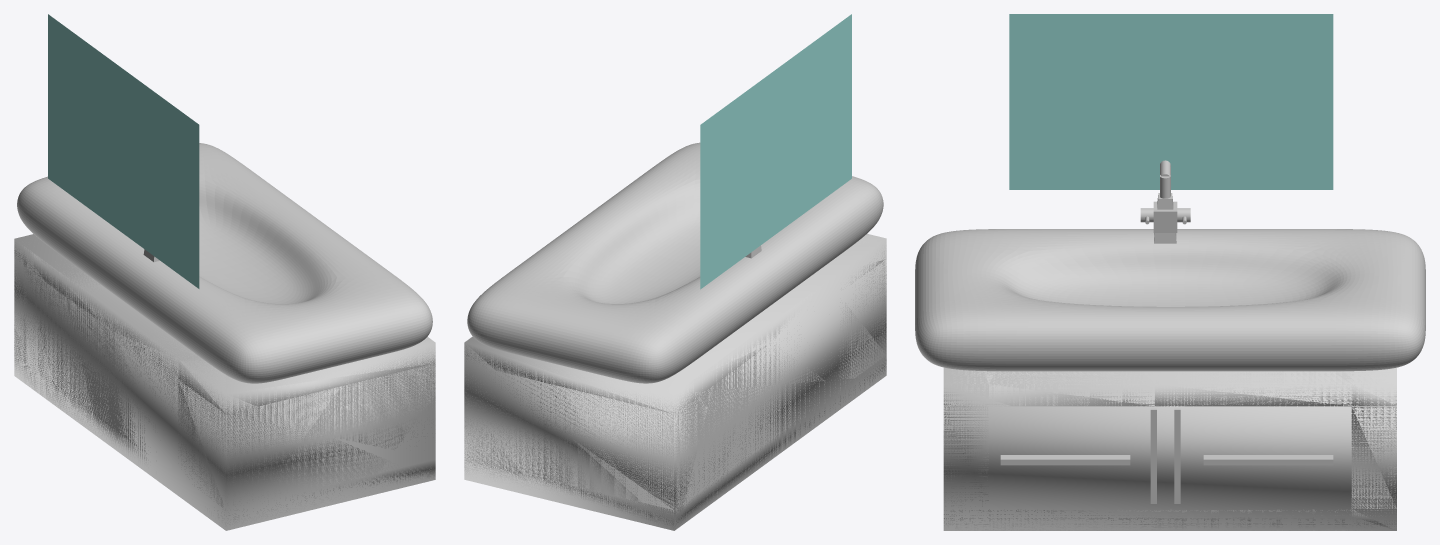
File: bath2.dae
The picture shows the model from 3 angles, left to right: view 1: azimuth 30°, elevation 25°; view 2: azimuth 150°, elevation 25°; view 3: azimuth 270°, elevation 25°; orthographic projection. The views are drawn at different scales.
Parts seen in each view (by area): view 1: Sink, Mirror; view 2: Sink, Mirror; view 3: Sink, Mirror.
Boxes of the visible parts, x1,y1,x2,y2 form: Sink: (14, 143, 435, 530); Mirror: (48, 14, 199, 288); Sink: (464, 142, 886, 530); Mirror: (700, 14, 851, 289); Sink: (915, 160, 1425, 530); Mirror: (1009, 14, 1333, 189).
Bounding box in the file's own units: 8.34 × 15.78 × 13.96.
